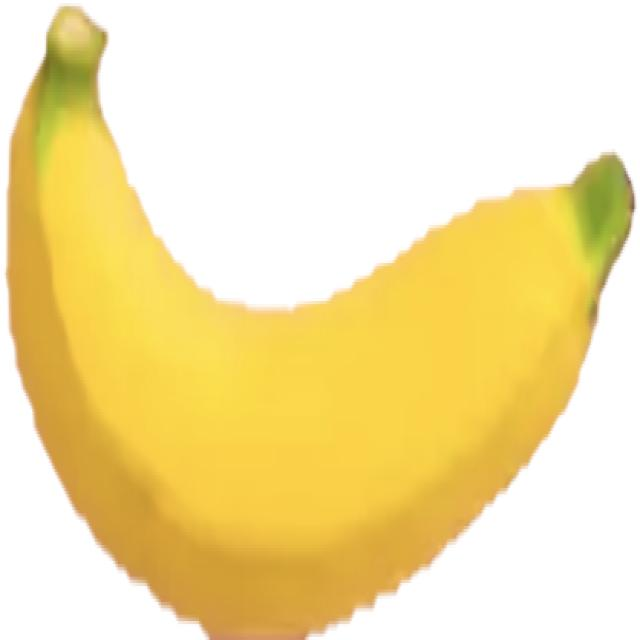fresh-banana: (4, 3, 634, 634)
